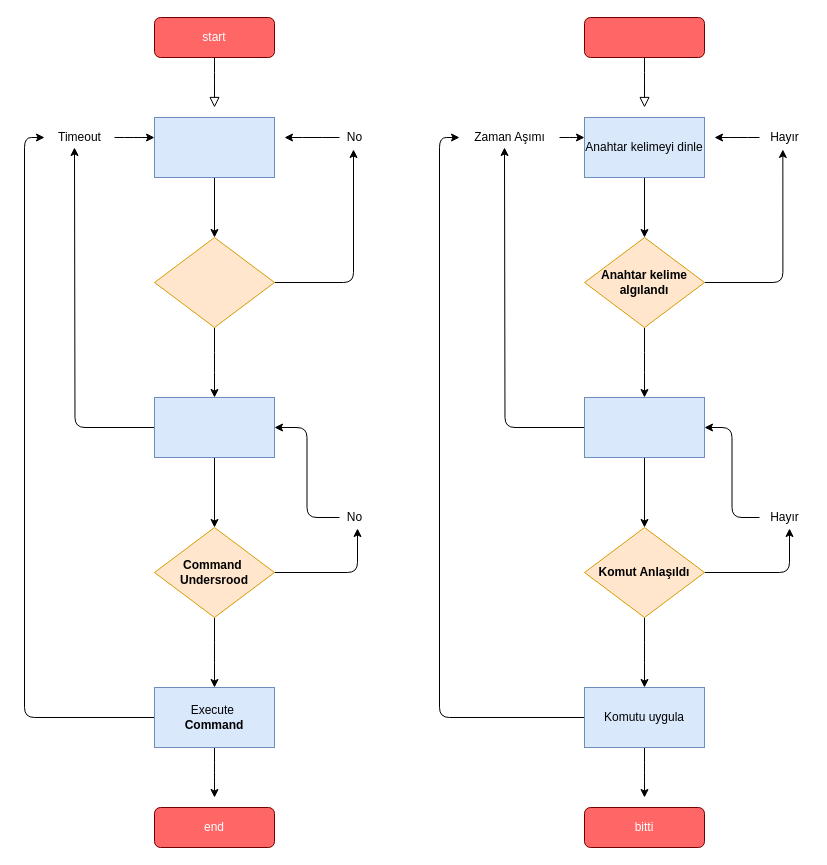
Image size: 827x865. Some labels were removed from this diagram. Each missing label, with the centre of its shape:
başla: point 644,37
Komut Dinle: point 644,427
Listen for Command: point 214,427
Listen for wake word: point 214,147
Wake word heard: point 214,282
